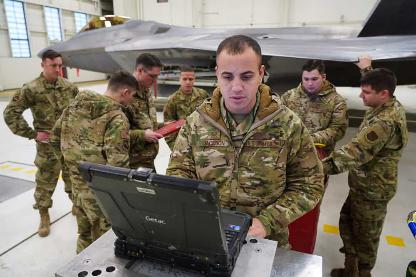F18: (37, 0, 415, 111)
